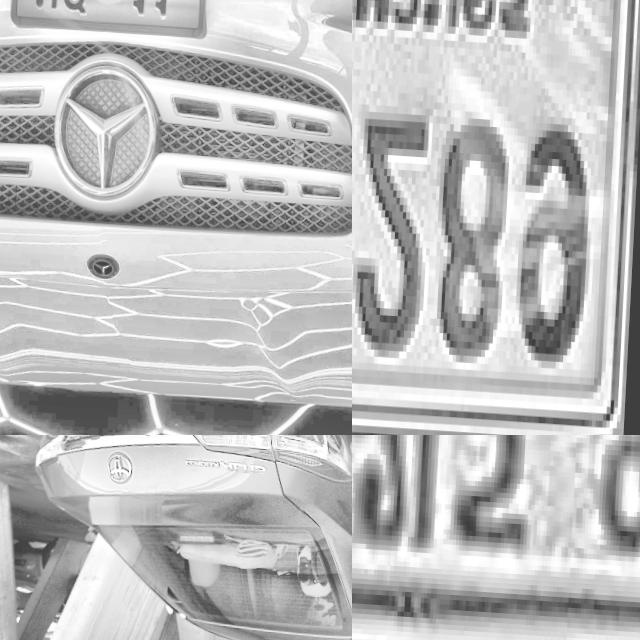license-plate: (352, 0, 639, 428), (352, 435, 640, 640), (11, 0, 219, 40)
